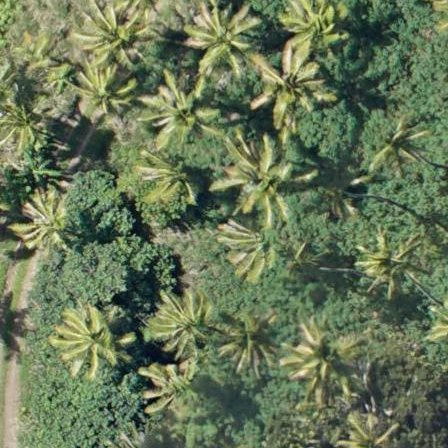palm_tree: (132, 338, 214, 426), (55, 296, 133, 379), (156, 287, 233, 369), (140, 73, 216, 151), (282, 313, 355, 392), (214, 139, 292, 212), (252, 49, 328, 119), (182, 4, 258, 69), (73, 2, 146, 68), (15, 191, 80, 257), (68, 65, 138, 123), (224, 217, 287, 281), (359, 234, 426, 294), (327, 401, 406, 448), (370, 115, 432, 173), (143, 152, 204, 209), (282, 1, 352, 47), (220, 316, 277, 370), (1, 103, 48, 155)
